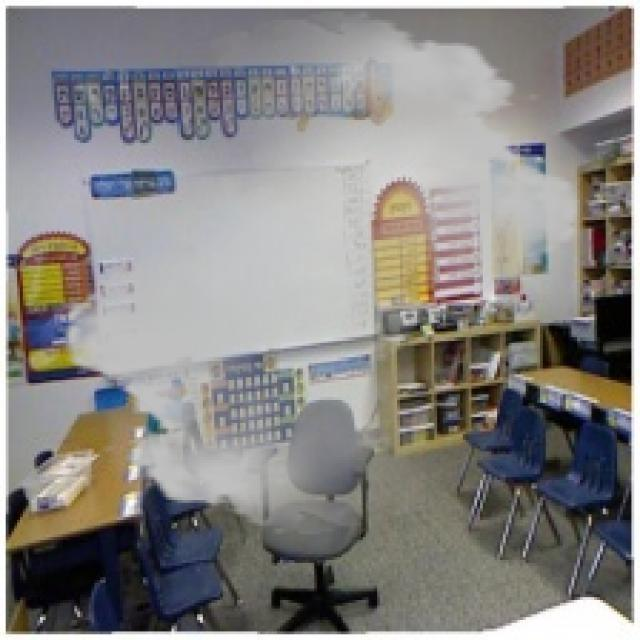Smoke: (45, 12, 598, 534)
